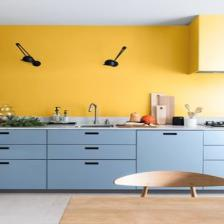yellow: (1, 26, 224, 119), (199, 15, 224, 72)
